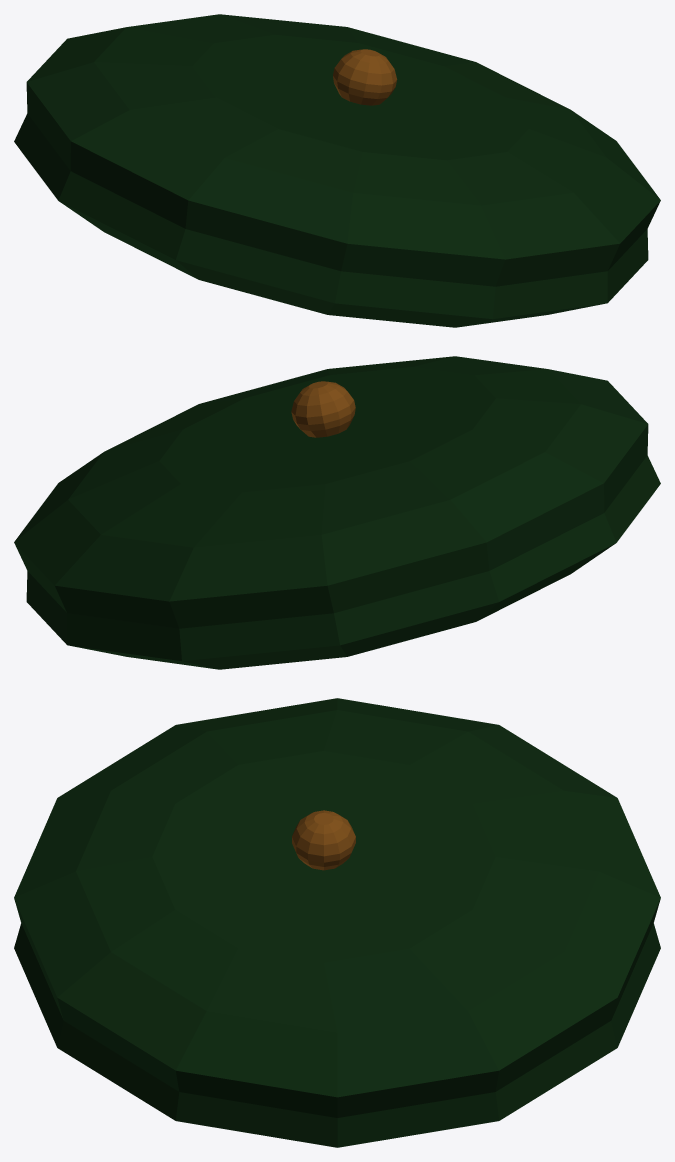
File: Pillow 1.fbx
The picture shows the model from 3 angles, top to bottom: view 1: azimuth 30°, elevation 25°; view 2: azimuth 150°, elevation 25°; view 3: azimuth 270°, elevation 25°; orthographic projection.
Visible parts, largest first — view 1: Cuscino.001; view 2: Cuscino.001; view 3: Cuscino.001.
Part boxes in pixels (left/top/right/bottom): Cuscino.001: left=14, top=14, right=660, bottom=327; Cuscino.001: left=14, top=356, right=660, bottom=669; Cuscino.001: left=14, top=698, right=660, bottom=1147.
Bounding box in the file's own units: 154 × 62.71 × 155.
